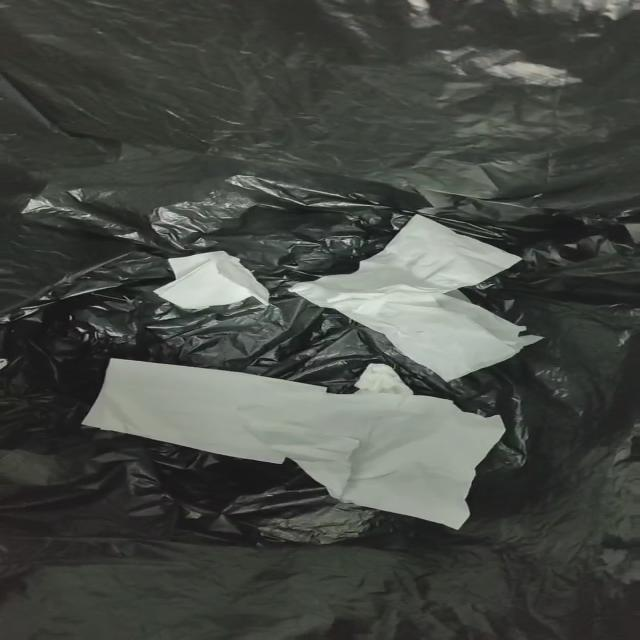paper: (82, 360, 504, 528), (290, 218, 539, 380), (153, 251, 268, 310)
